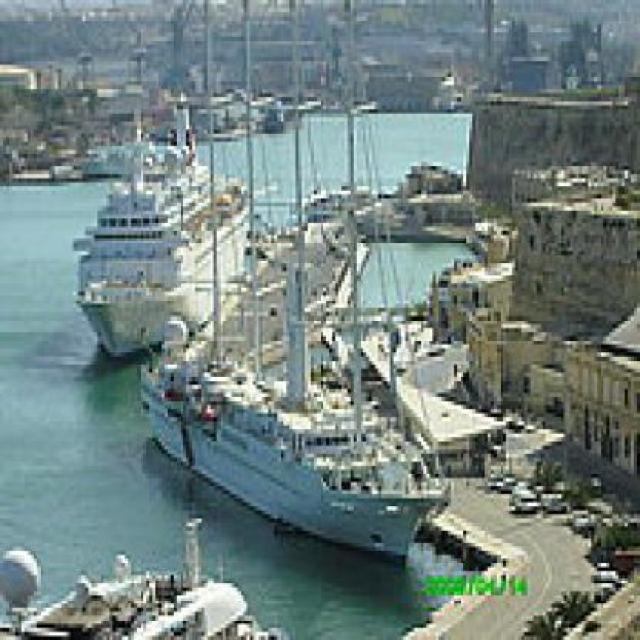cruise: (65, 94, 272, 370)
